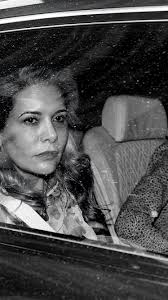middle_eastern_Female: (8, 85, 72, 180)
